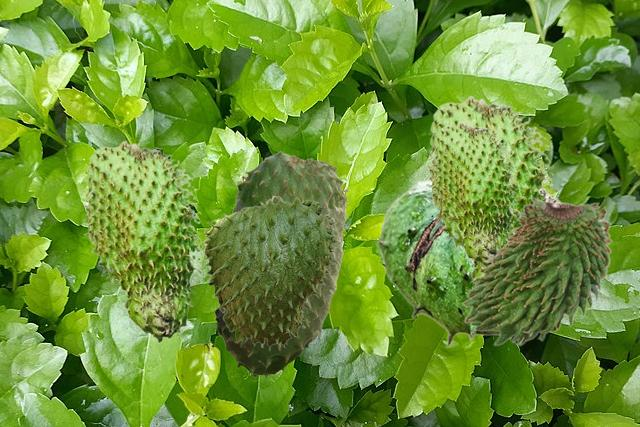guyabano: (376, 178, 561, 346), (213, 150, 349, 378), (425, 95, 555, 284), (82, 140, 203, 342), (461, 194, 612, 345), (203, 195, 339, 350), (431, 121, 518, 265)
